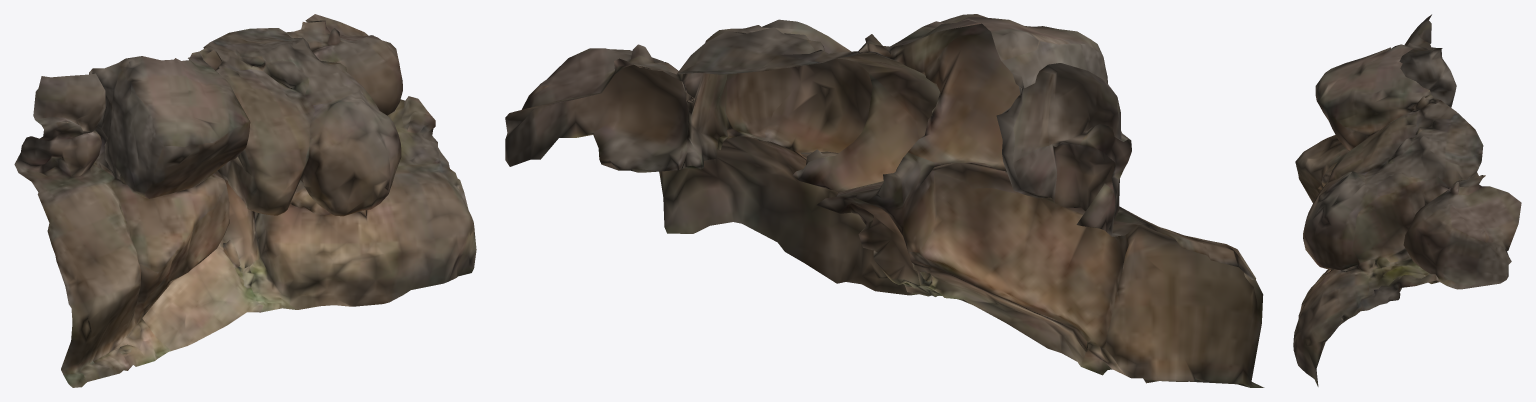
The model's file is cliff-sandstone.lite.003378a6.glb.
The picture shows the model from 3 angles, left to right: view 1: azimuth 30°, elevation 25°; view 2: azimuth 150°, elevation 25°; view 3: azimuth 270°, elevation 25°; orthographic projection. The views are drawn at different scales.
Visible parts, largest first — view 1: model; view 2: model; view 3: model.
Part boxes in pixels (bbox=[...]): model: bbox=[14, 14, 476, 387]; model: bbox=[505, 14, 1264, 387]; model: bbox=[1293, 14, 1521, 386].
Bounding box in the file's own units: 8.27 × 4.96 × 4.38.
Materials: 1 (1 with a texture image).
